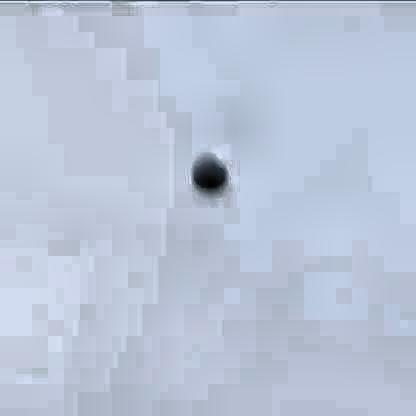golfball: (190, 147, 223, 189)
